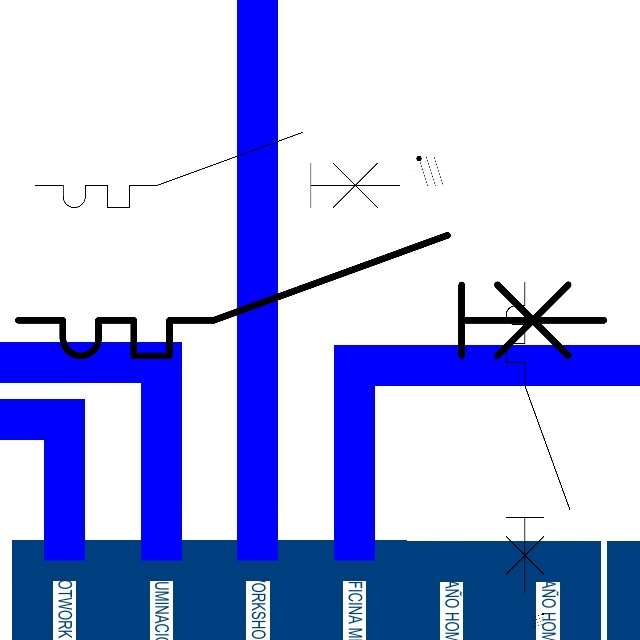interruptor_termomagnetico: (3, 220, 619, 371), (26, 123, 409, 217), (498, 274, 578, 601)
